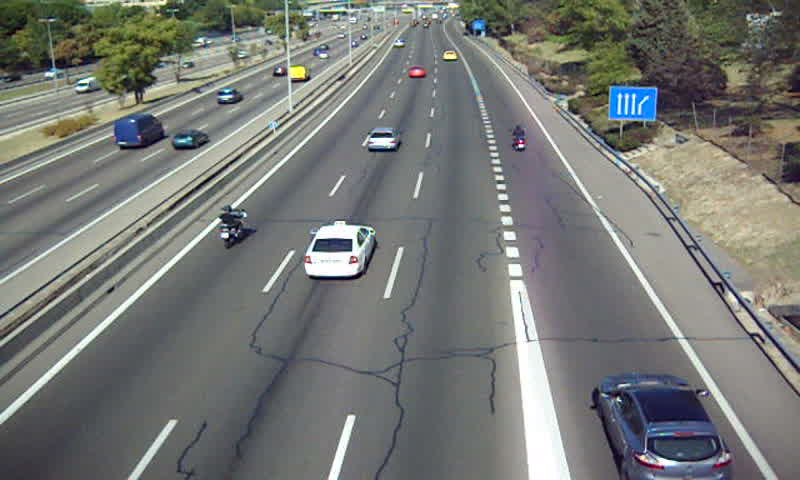car: (596, 376, 734, 480), (305, 224, 376, 278), (366, 127, 401, 152), (409, 65, 427, 80), (442, 50, 459, 61)
motorcycle: (217, 205, 248, 248), (510, 123, 527, 152)
